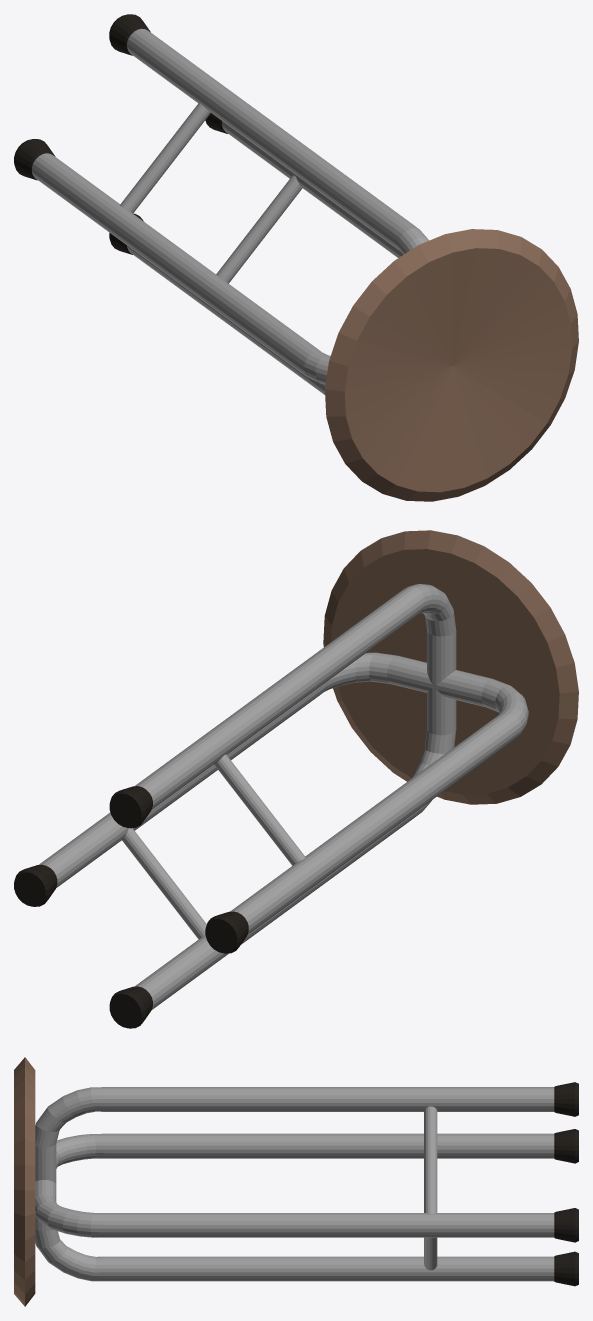
The model's file is barStool.fbx.
3 renders of one model, top to bottom at view 1: azimuth 30°, elevation 25°; view 2: azimuth 150°, elevation 25°; view 3: azimuth 270°, elevation 25°, orthographic. The views are drawn at different scales.
Parts seen in each view (by area): view 1: plateau, Cylinder, Cylinder.001, Cylinder.006, Cylinder.005, Cylinder.002, patins; view 2: plateau, Cylinder, Cylinder.001, Cylinder.006, Cylinder.005, patins, Cylinder.002; view 3: Cylinder.001, Cylinder, Cylinder.005, Cylinder.006, plateau, patins, Cylinder.002.
Part boxes in pixels (x1,y1,x2,y2): plateau: (325,229,578,501); Cylinder: (32,121,403,384); Cylinder.001: (127,28,428,394); Cylinder.006: (32,122,402,383); Cylinder.005: (127,29,426,394); Cylinder.002: (120,103,302,283); patins: (14,14,227,254); plateau: (323,530,578,804); Cylinder: (39,652,528,934); Cylinder.001: (134,584,456,1009); Cylinder.006: (40,652,528,929); Cylinder.005: (137,584,456,1007); patins: (14,786,248,1028); Cylinder.002: (122,754,305,939); Cylinder.001: (35,1087,554,1281); Cylinder: (35,1133,554,1237); Cylinder.005: (35,1087,554,1281); Cylinder.006: (35,1133,554,1237); plateau: (14,1057,35,1306); patins: (554,1082,578,1286); Cylinder.002: (424,1106,437,1270).
Bounding box in the file's own units: 2.1 × 2.1 × 4.75.
